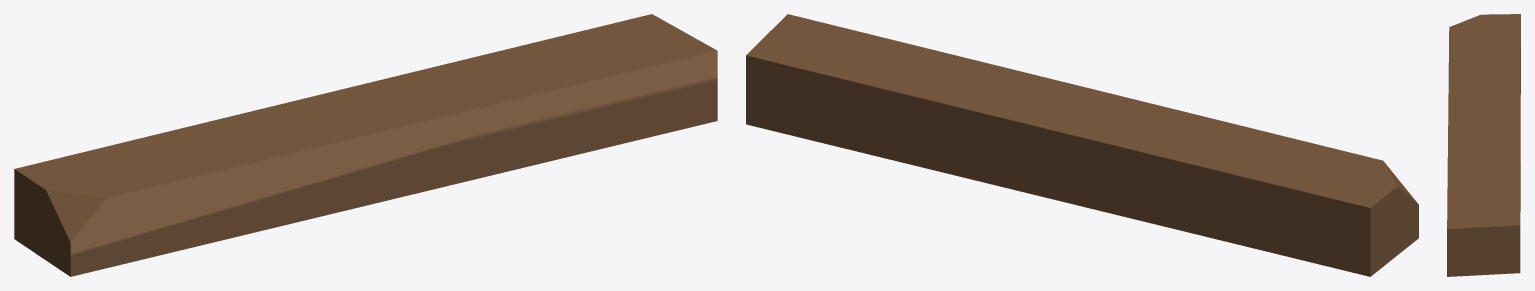
Rendered from wood01.fbx.
3 views of the same model, side by side, from view 1: azimuth 30°, elevation 25°; view 2: azimuth 150°, elevation 25°; view 3: azimuth 270°, elevation 25° (orthographic). The views are drawn at different scales.
Parts seen in each view (by area): view 1: wood01; view 2: wood01; view 3: wood01.
Part boxes in pixels (x1,y1,x2,y2): wood01: [14, 14, 717, 276]; wood01: [746, 14, 1418, 276]; wood01: [1447, 14, 1520, 276].
Bounding box in the file's own units: 24.9 × 2.59 × 3.61.
